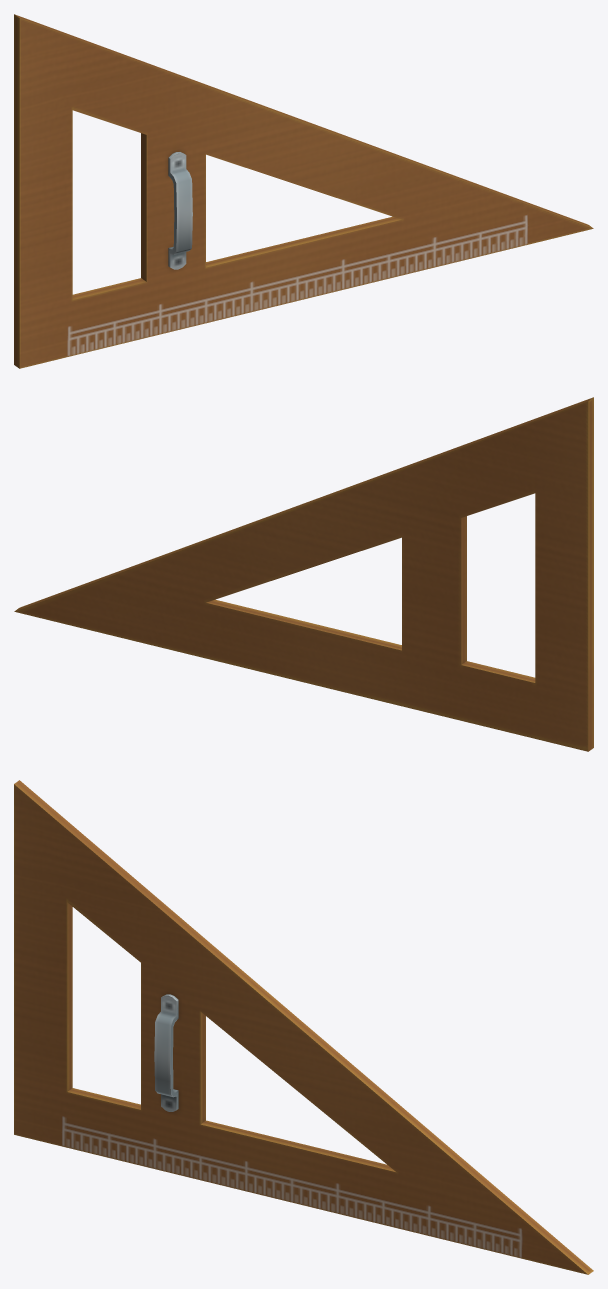
File: Set_square_01_01.fbx
3 renders of one model, top to bottom at view 1: azimuth 30°, elevation 25°; view 2: azimuth 150°, elevation 25°; view 3: azimuth 330°, elevation 25°, orthographic.
Parts seen in each view (by area): view 1: set_square_01_01; view 2: set_square_01_01; view 3: set_square_01_01.
Part boxes in pixels (box(x1,y1,x2,y2)): set_square_01_01: box(14, 14, 593, 368); set_square_01_01: box(14, 397, 593, 751); set_square_01_01: box(14, 780, 593, 1274).
Bounding box in the file's own units: 60 × 35 × 2.55.
